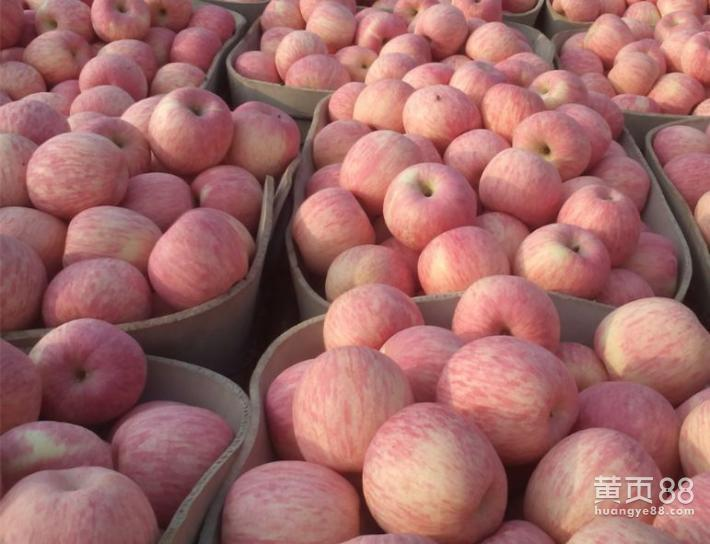apple: (362, 403, 508, 539), (437, 336, 577, 459), (290, 349, 414, 477), (112, 401, 237, 520), (524, 428, 662, 532), (25, 318, 148, 429), (1, 464, 160, 542), (569, 376, 686, 474), (593, 296, 707, 396), (147, 204, 253, 310), (221, 459, 358, 538), (455, 275, 565, 354), (1, 416, 112, 493), (25, 131, 129, 212), (383, 163, 480, 246), (145, 86, 232, 174), (44, 257, 150, 327), (515, 224, 613, 298), (342, 130, 425, 212), (319, 285, 427, 348), (419, 223, 510, 297), (477, 148, 563, 224), (557, 184, 643, 260), (293, 187, 377, 264), (226, 98, 301, 183), (60, 203, 161, 262), (510, 108, 590, 182), (324, 243, 416, 304), (404, 83, 480, 142), (481, 83, 547, 140), (312, 116, 379, 162), (355, 78, 411, 131), (675, 392, 709, 479), (525, 69, 591, 110)
